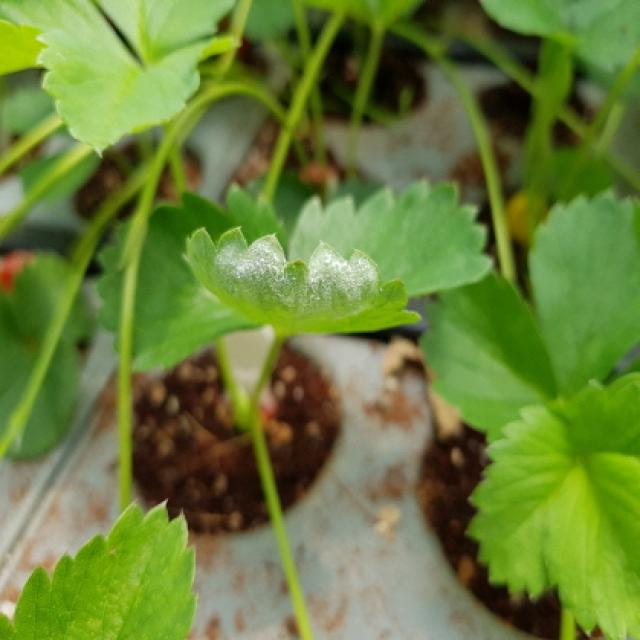Powdery Mildew Leaf: (181, 226, 424, 337)
